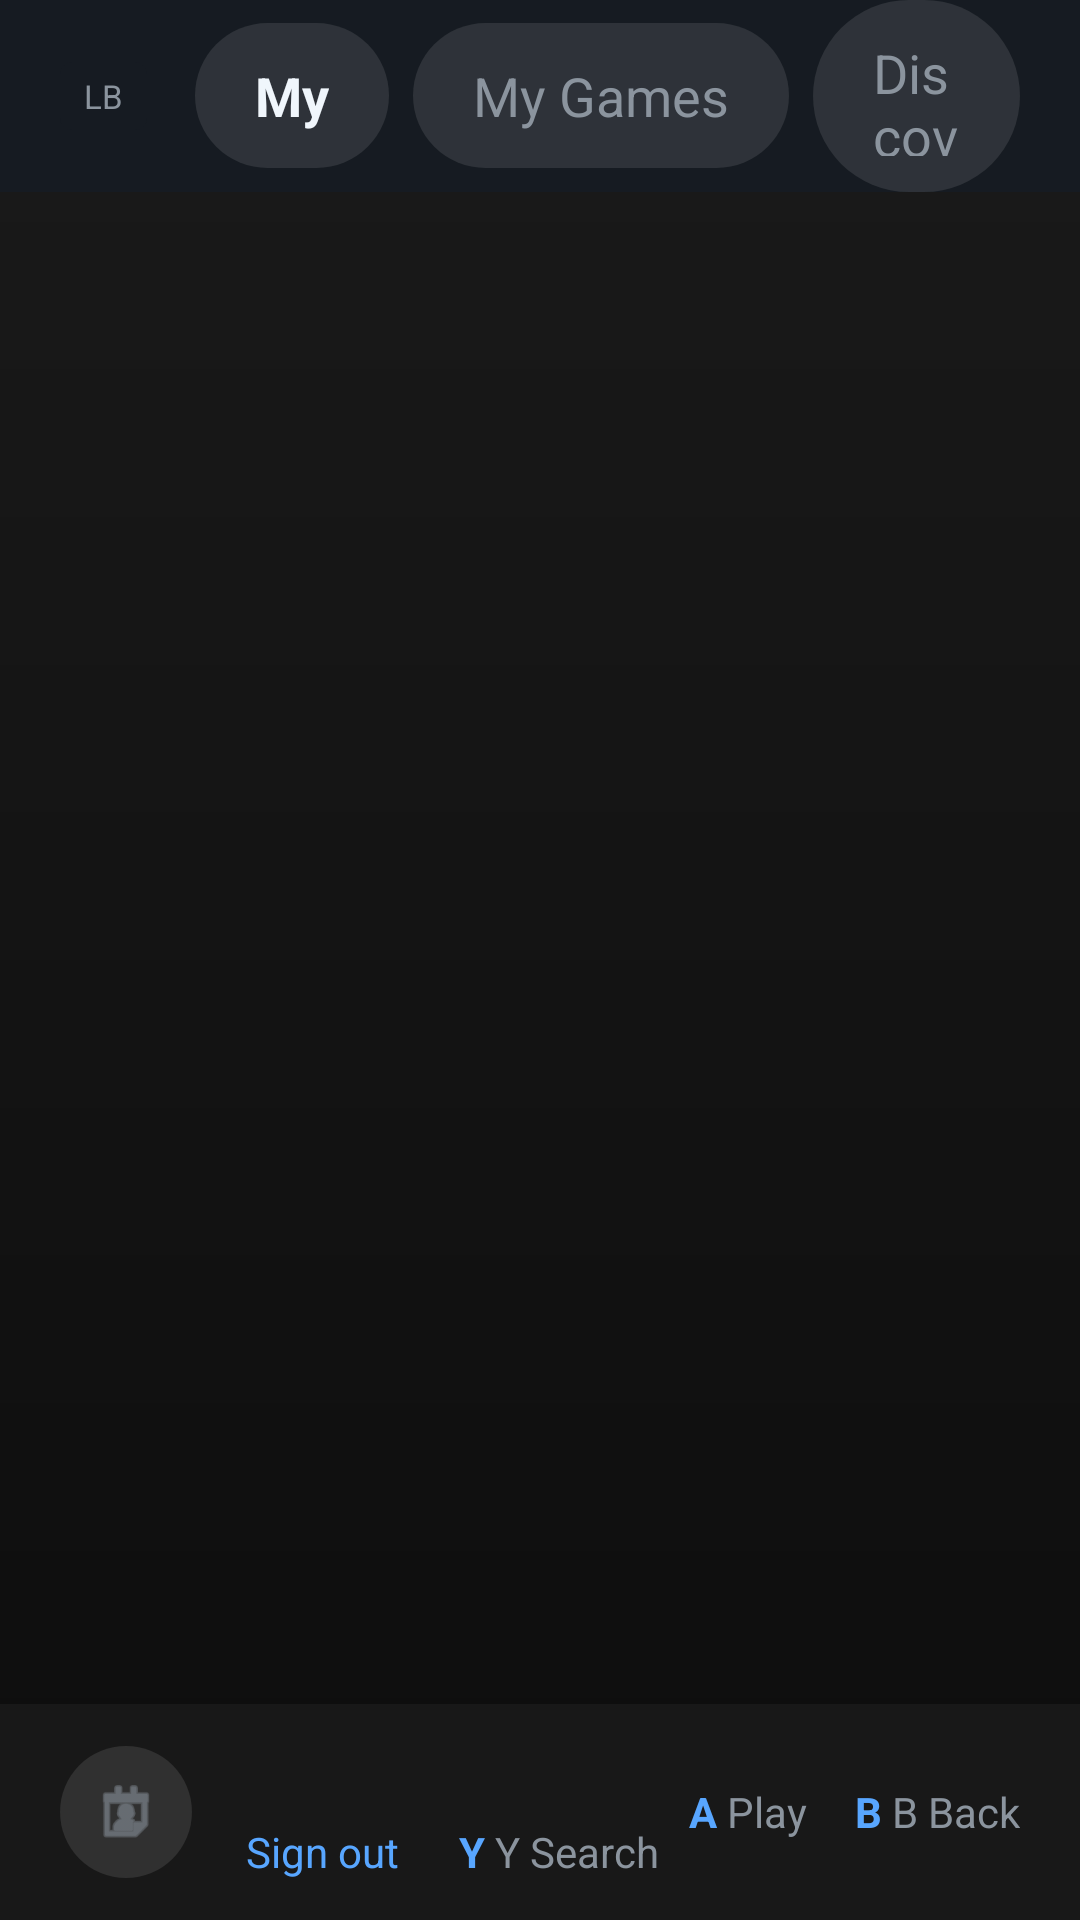

Screen size 1080×1920. Icon name, then its box in pixels as {"left": x1, "top": y1, "right": x2, "bottom": y2}:
calendar: {"left": 103, "top": 1785, "right": 149, "bottom": 1837}
